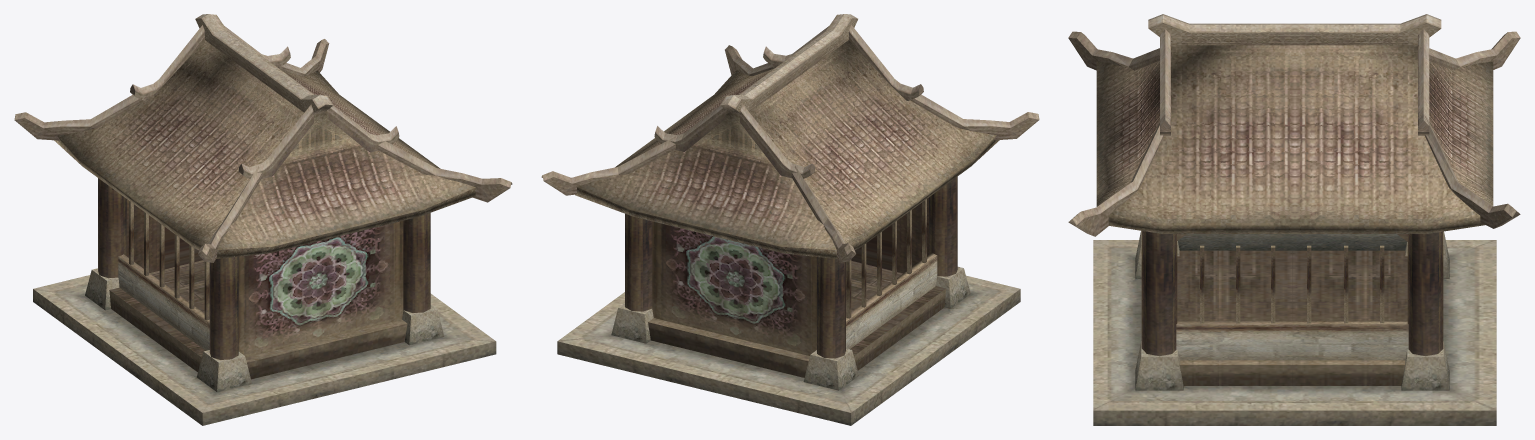
The model's file is desert-004-house2.fbx.
3 renders of one model, left to right at view 1: azimuth 30°, elevation 25°; view 2: azimuth 150°, elevation 25°; view 3: azimuth 270°, elevation 25°, orthographic. The views are drawn at different scales.
Parts seen in each view (by area): view 1: desert-004-hause2; view 2: desert-004-hause2; view 3: desert-004-hause2.
Part boxes in pixels (left/top/right/bottom): desert-004-hause2: left=14, top=14, right=512, bottom=425; desert-004-hause2: left=541, top=14, right=1039, bottom=425; desert-004-hause2: left=1068, top=14, right=1520, bottom=425.
Size of the model in its own units: 4.01 by 3.33 by 4.19.
